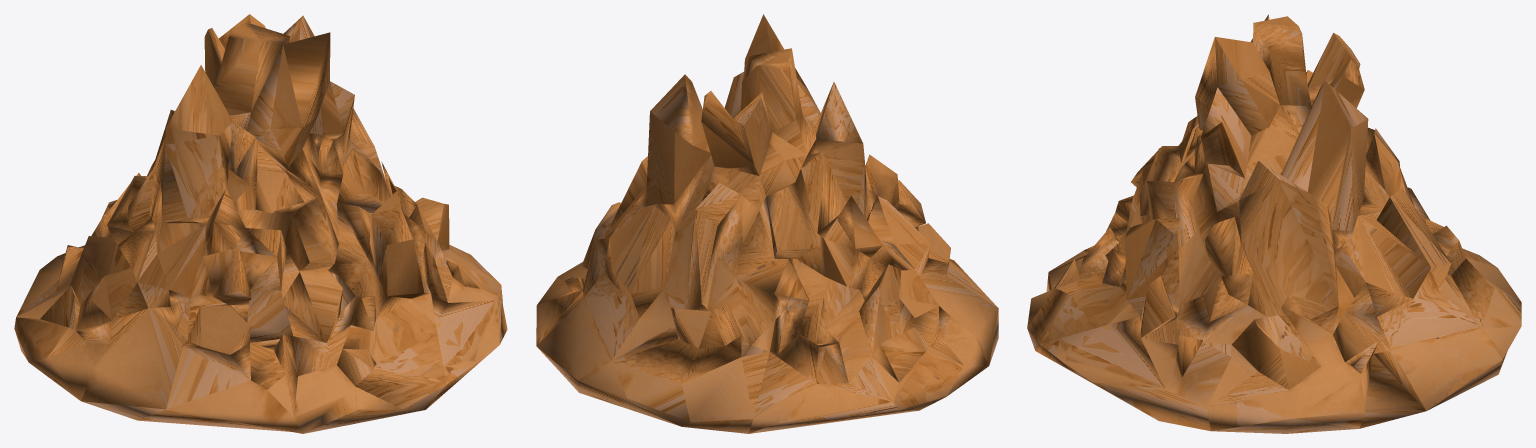
The model's file is cover_half_ruins_v6_lod1.glb.
3 views of the same model, side by side, from view 1: azimuth 30°, elevation 25°; view 2: azimuth 150°, elevation 25°; view 3: azimuth 270°, elevation 25° (orthographic). The views are drawn at different scales.
Parts seen in each view (by area): view 1: Mesh_0; view 2: Mesh_0; view 3: Mesh_0.
Boxes of the visible parts, x1,y1,x2,y2 form: Mesh_0: (14, 14, 507, 433); Mesh_0: (536, 14, 998, 433); Mesh_0: (1027, 14, 1521, 433).
Bounding box in the file's own units: 0.9477 × 0.6615 × 0.9508.
1 material, 1 textured.
